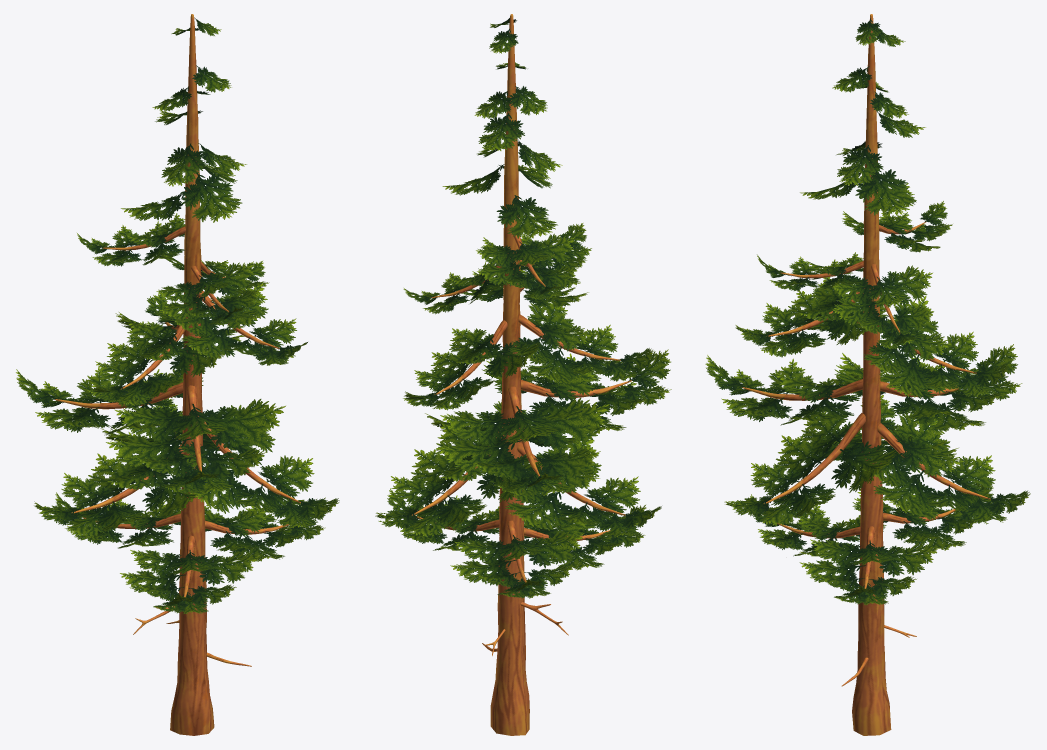
The model's file is pine_var1.glb.
The picture shows the model from 3 angles, left to right: view 1: azimuth 30°, elevation 25°; view 2: azimuth 150°, elevation 25°; view 3: azimuth 270°, elevation 25°; orthographic projection.
Parts seen in each view (by area): view 1: stylized_pine_var1_m_leaves_0, stylized_pine_var1_m_trunk_0; view 2: stylized_pine_var1_m_leaves_0, stylized_pine_var1_m_trunk_0; view 3: stylized_pine_var1_m_leaves_0, stylized_pine_var1_m_trunk_0.
Part boxes in pixels (x1,y1,x2,y2): stylized_pine_var1_m_leaves_0: (16,18,339,613); stylized_pine_var1_m_trunk_0: (54,14,300,735); stylized_pine_var1_m_leaves_0: (375,18,671,598); stylized_pine_var1_m_trunk_0: (411,14,631,735); stylized_pine_var1_m_leaves_0: (705,18,1030,605); stylized_pine_var1_m_trunk_0: (742,14,990,735).
Size of the model in its own units: 5.04 by 12.18 by 5.1.
Materials: 2 (2 with a texture image).
